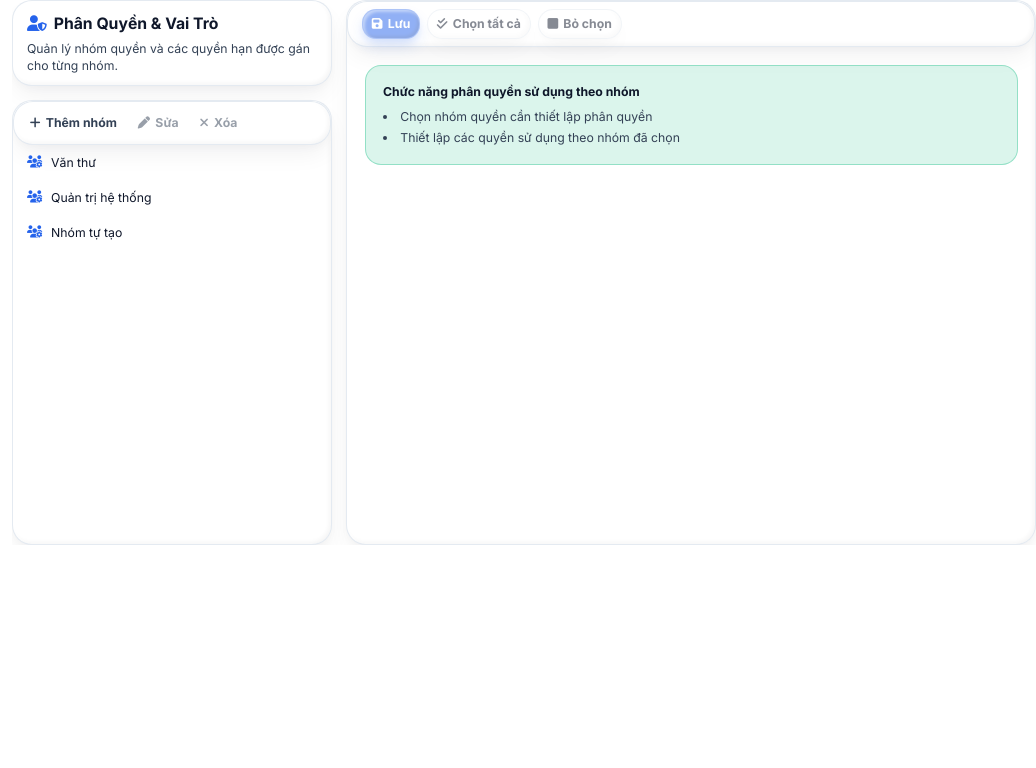
Scenario: RolesPage (Issue #21) › shows every write action when the user can add, change and delete roles
What coordinates should you click on to do the following:
click the button "Văn thư"
I would click on:
 (73, 162)
Its box is [13,145,331,180].
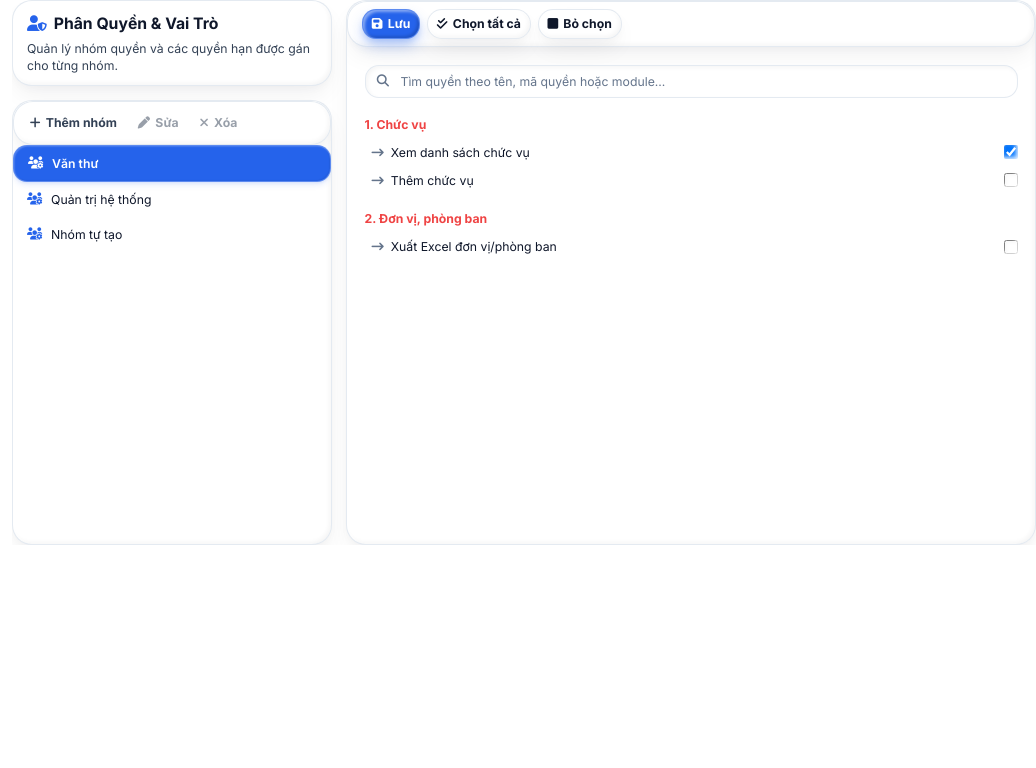
Expected: the checkbox labelled "Xem danh sách chức vụ" is enabled, [1004,145,1018,159]
Expected: the checkbox labelled "Thêm chức vụ" is enabled, [1004,173,1018,187]
Expected: the checkbox labelled "Xuất Excel đơn vị/phòng ban" is enabled, [1004,240,1018,254]
